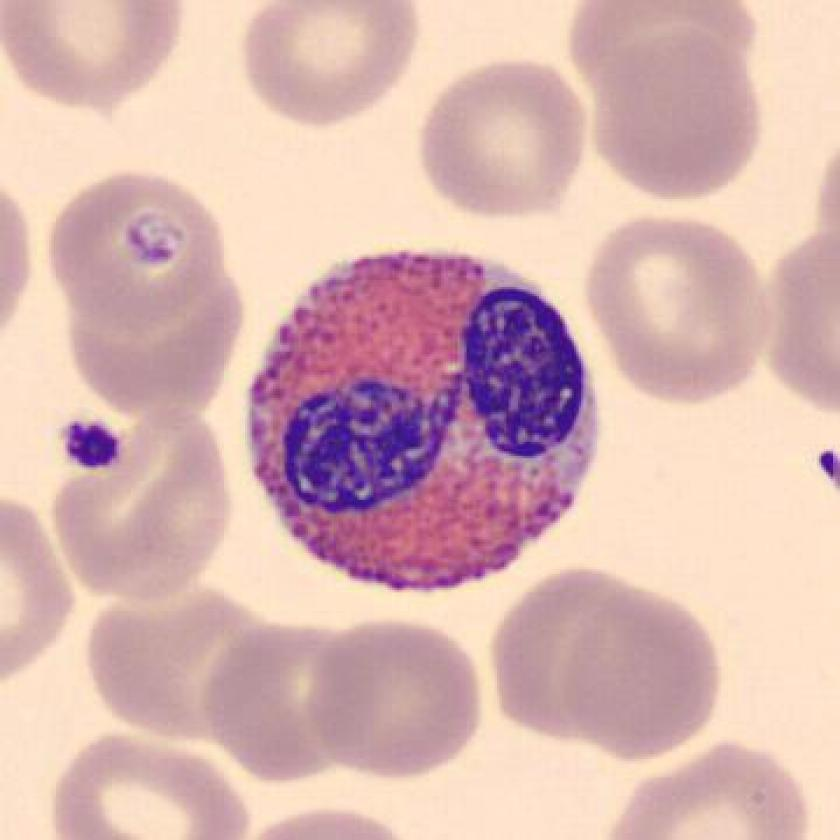eosinophil: (239, 233, 612, 608)
